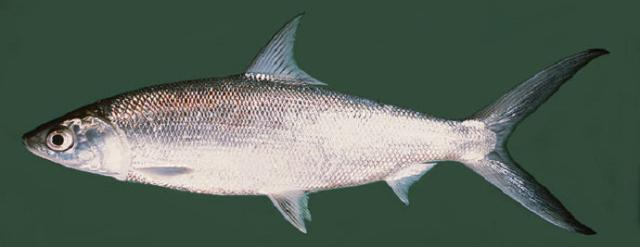Mulut: (13, 114, 59, 166)
Sirip Anal: (378, 155, 447, 214)
Sirip Dada: (120, 156, 214, 194)
Sirip Ekor: (460, 38, 620, 243)
Sirip Perut: (258, 178, 324, 238)
Sirip Punggung: (242, 6, 332, 100)
